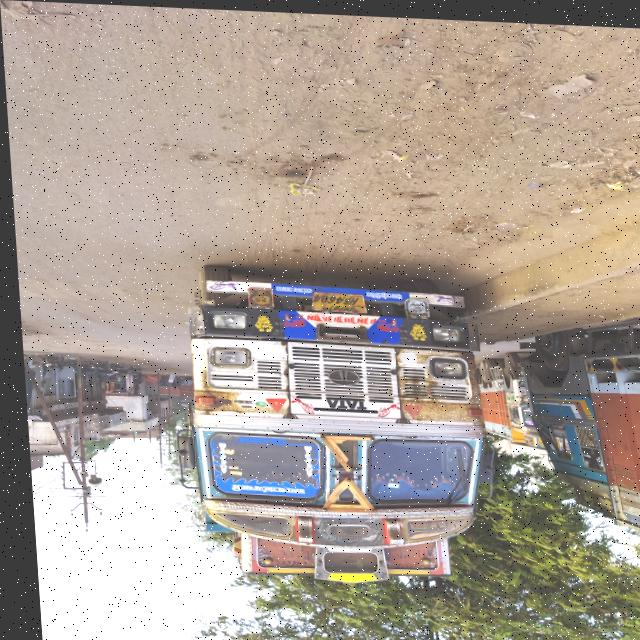plate: (307, 288, 364, 311), (40, 363, 47, 366)
